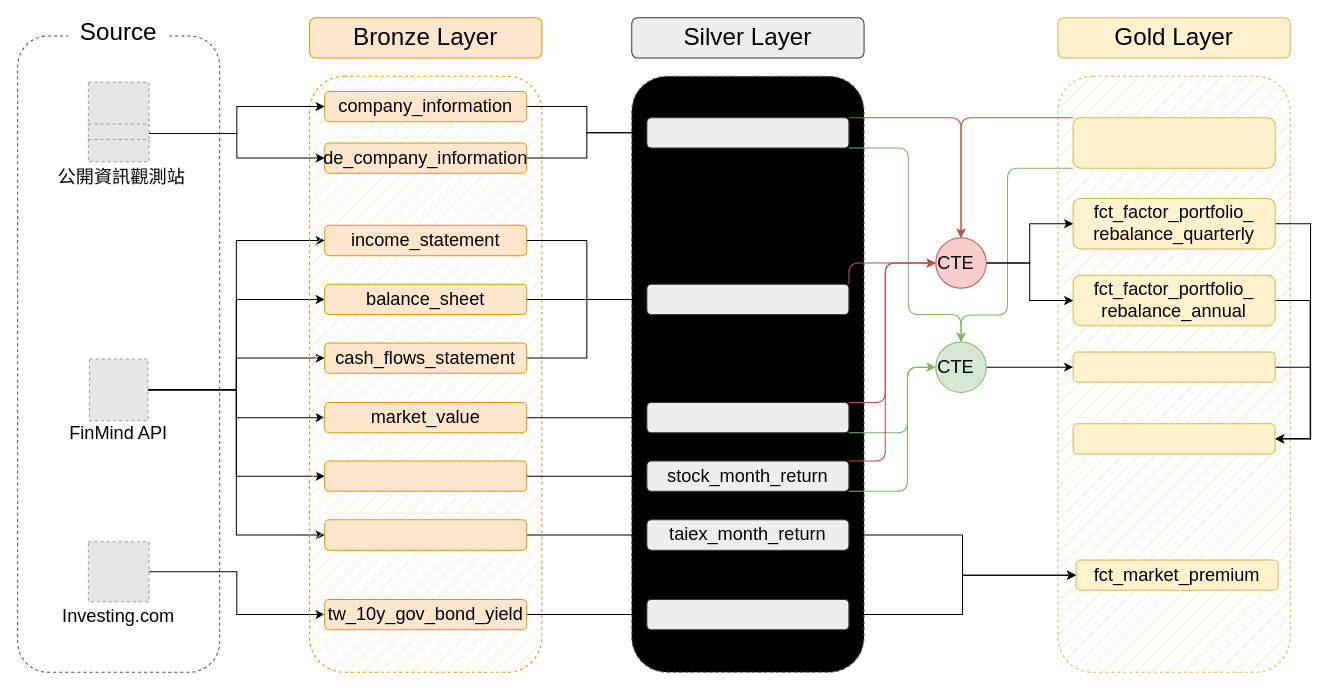
Image size: 1337x691. Some labels were removed from this diagram. Grey dashed boxes stand in for pictures. Each missing label, with the centre of its shape:
adj_price: the point at 425,475
company_industry: the point at 747,132
dim_date (created in SQL): the point at 1173,142
fct_factor_data: the point at 1173,438
fct_mom_portfolio: the point at 1173,366
financial_statement: the point at 747,299
month_market_value: the point at 747,417
risk_free_rate: the point at 747,614
taiex_return_index: the point at 425,534
